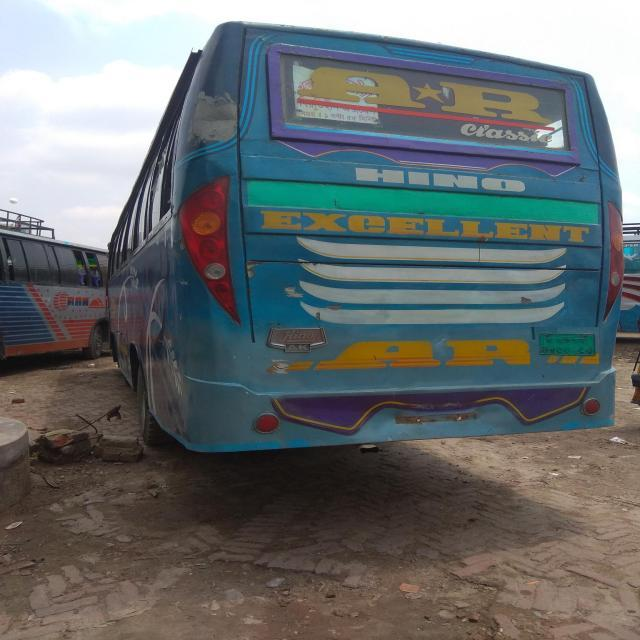numberplate: (530, 327, 599, 365)
